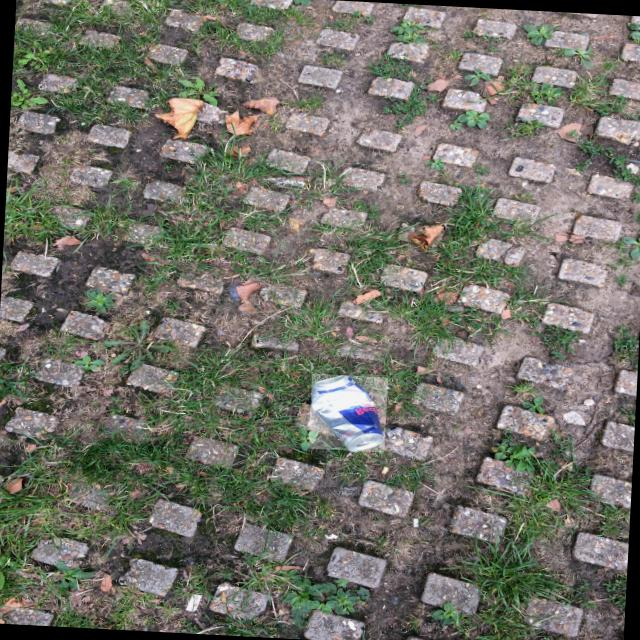Cigarette: (413, 519, 418, 527)
Drink can: (311, 376, 384, 451)
